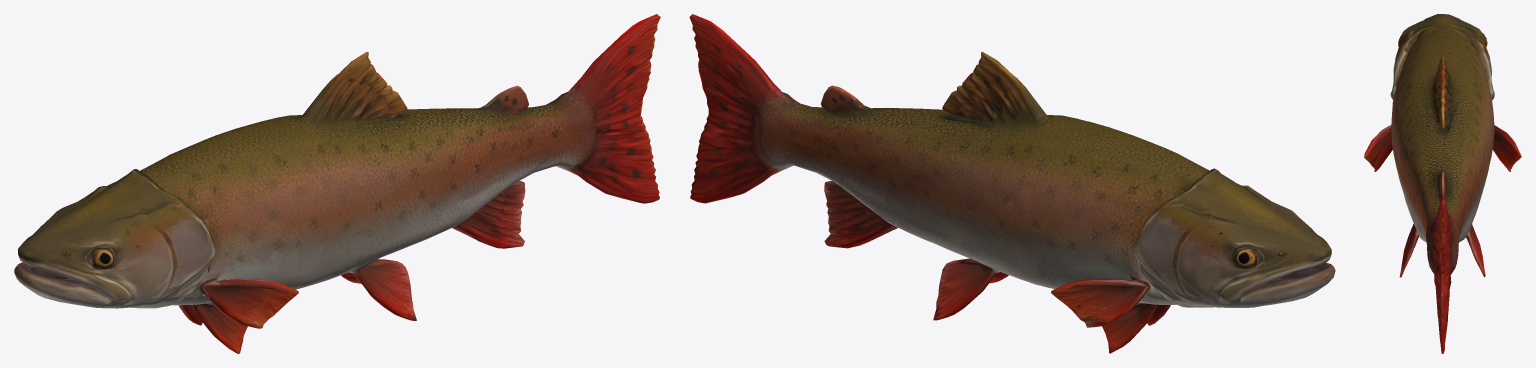
Rendered from fish-taimen.glb.
3 views of the same model, side by side, from view 1: azimuth 30°, elevation 25°; view 2: azimuth 150°, elevation 25°; view 3: azimuth 270°, elevation 25° (orthographic). The views are drawn at different scales.
Parts seen in each view (by area): view 1: tripo_node_bebdb855-ac1f-4003-89a7-b14be0b0ffd9; view 2: tripo_node_bebdb855-ac1f-4003-89a7-b14be0b0ffd9; view 3: tripo_node_bebdb855-ac1f-4003-89a7-b14be0b0ffd9.
Boxes of the visible parts, x1,y1,x2,y2 form: tripo_node_bebdb855-ac1f-4003-89a7-b14be0b0ffd9: [14, 14, 660, 353]; tripo_node_bebdb855-ac1f-4003-89a7-b14be0b0ffd9: [689, 14, 1335, 353]; tripo_node_bebdb855-ac1f-4003-89a7-b14be0b0ffd9: [1364, 14, 1521, 353].
Size of the model in its own units: 1 by 0.3811 by 0.2585.
Materials: 1 (1 with a texture image).
